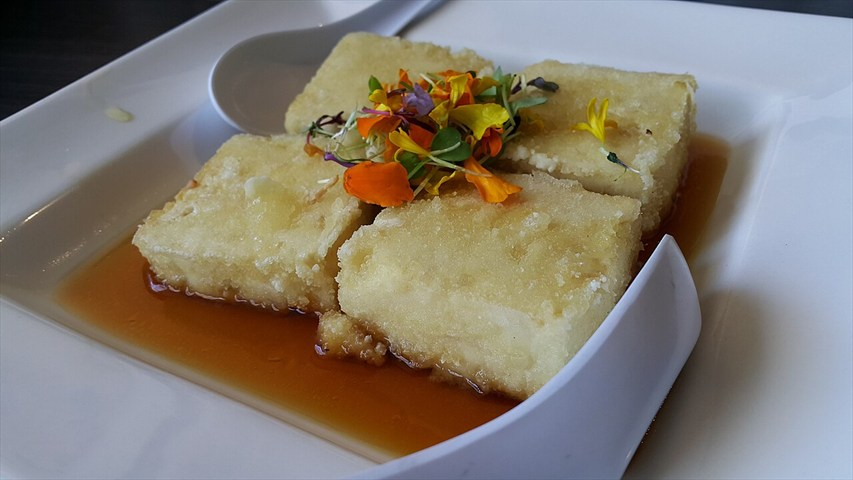Tahu Goreng: (109, 63, 718, 441)
